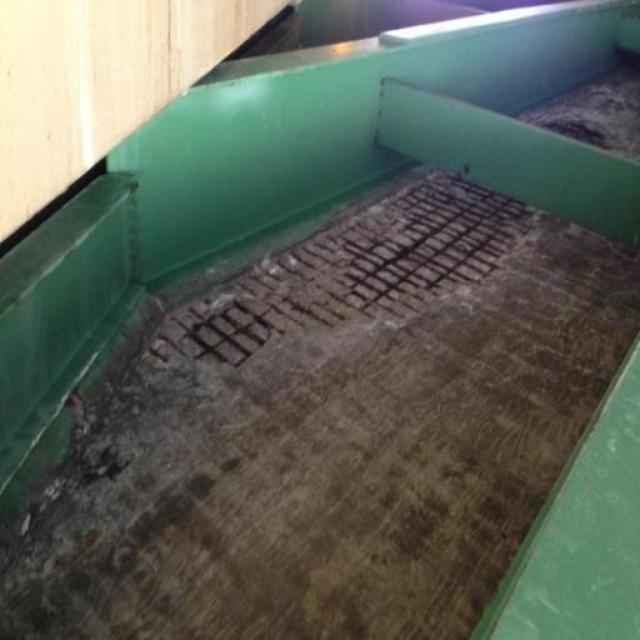D0w0: (144, 162, 545, 367)
